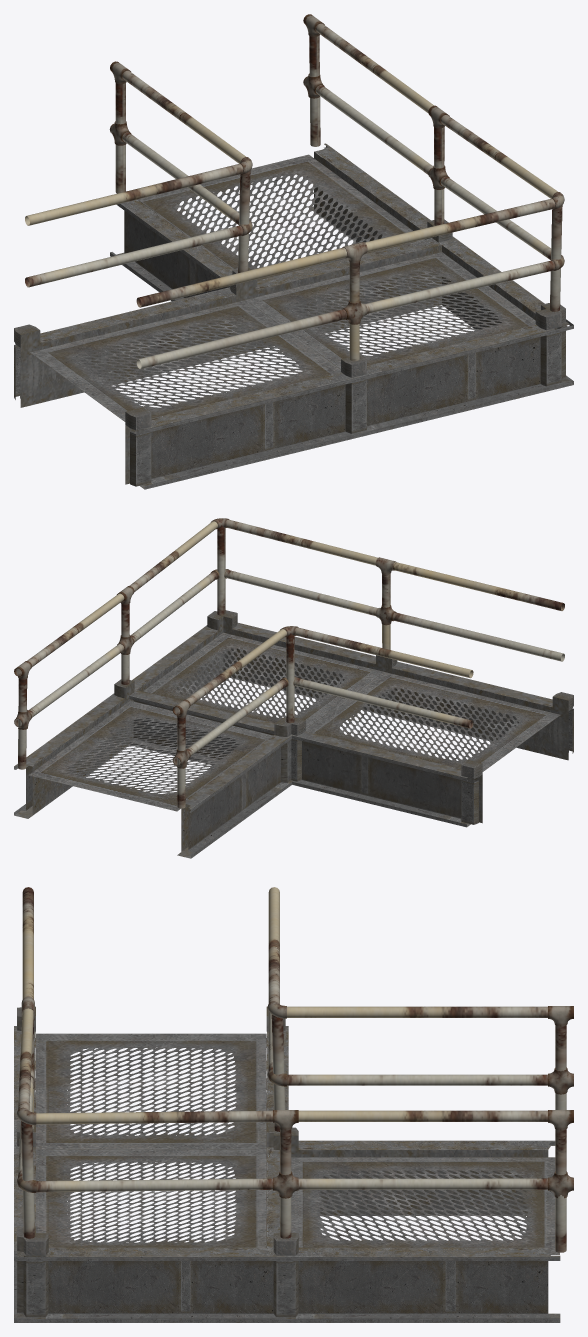
File: upper_platform_Corner.fbx
The picture shows the model from 3 angles, top to bottom: view 1: azimuth 30°, elevation 25°; view 2: azimuth 150°, elevation 25°; view 3: azimuth 270°, elevation 25°; orthographic projection. The views are drawn at different scales.
Visible parts, largest first — view 1: upper_platform_Corner; view 2: upper_platform_Corner; view 3: upper_platform_Corner.
Part boxes in pixels (box(x1,y1,x2,y2)): upper_platform_Corner: box(14, 14, 573, 489); upper_platform_Corner: box(14, 518, 573, 858); upper_platform_Corner: box(14, 887, 573, 1322).
Size of the model in its own units: 407 by 166 by 409.
